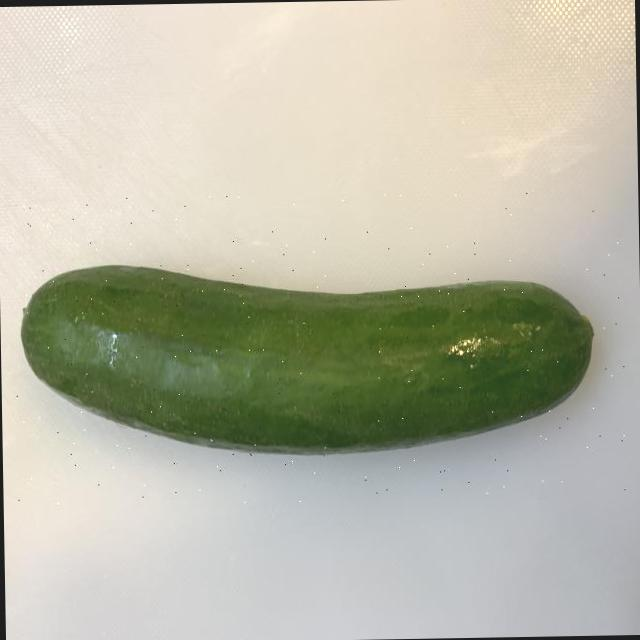Cucumber: (20, 255, 599, 456)
